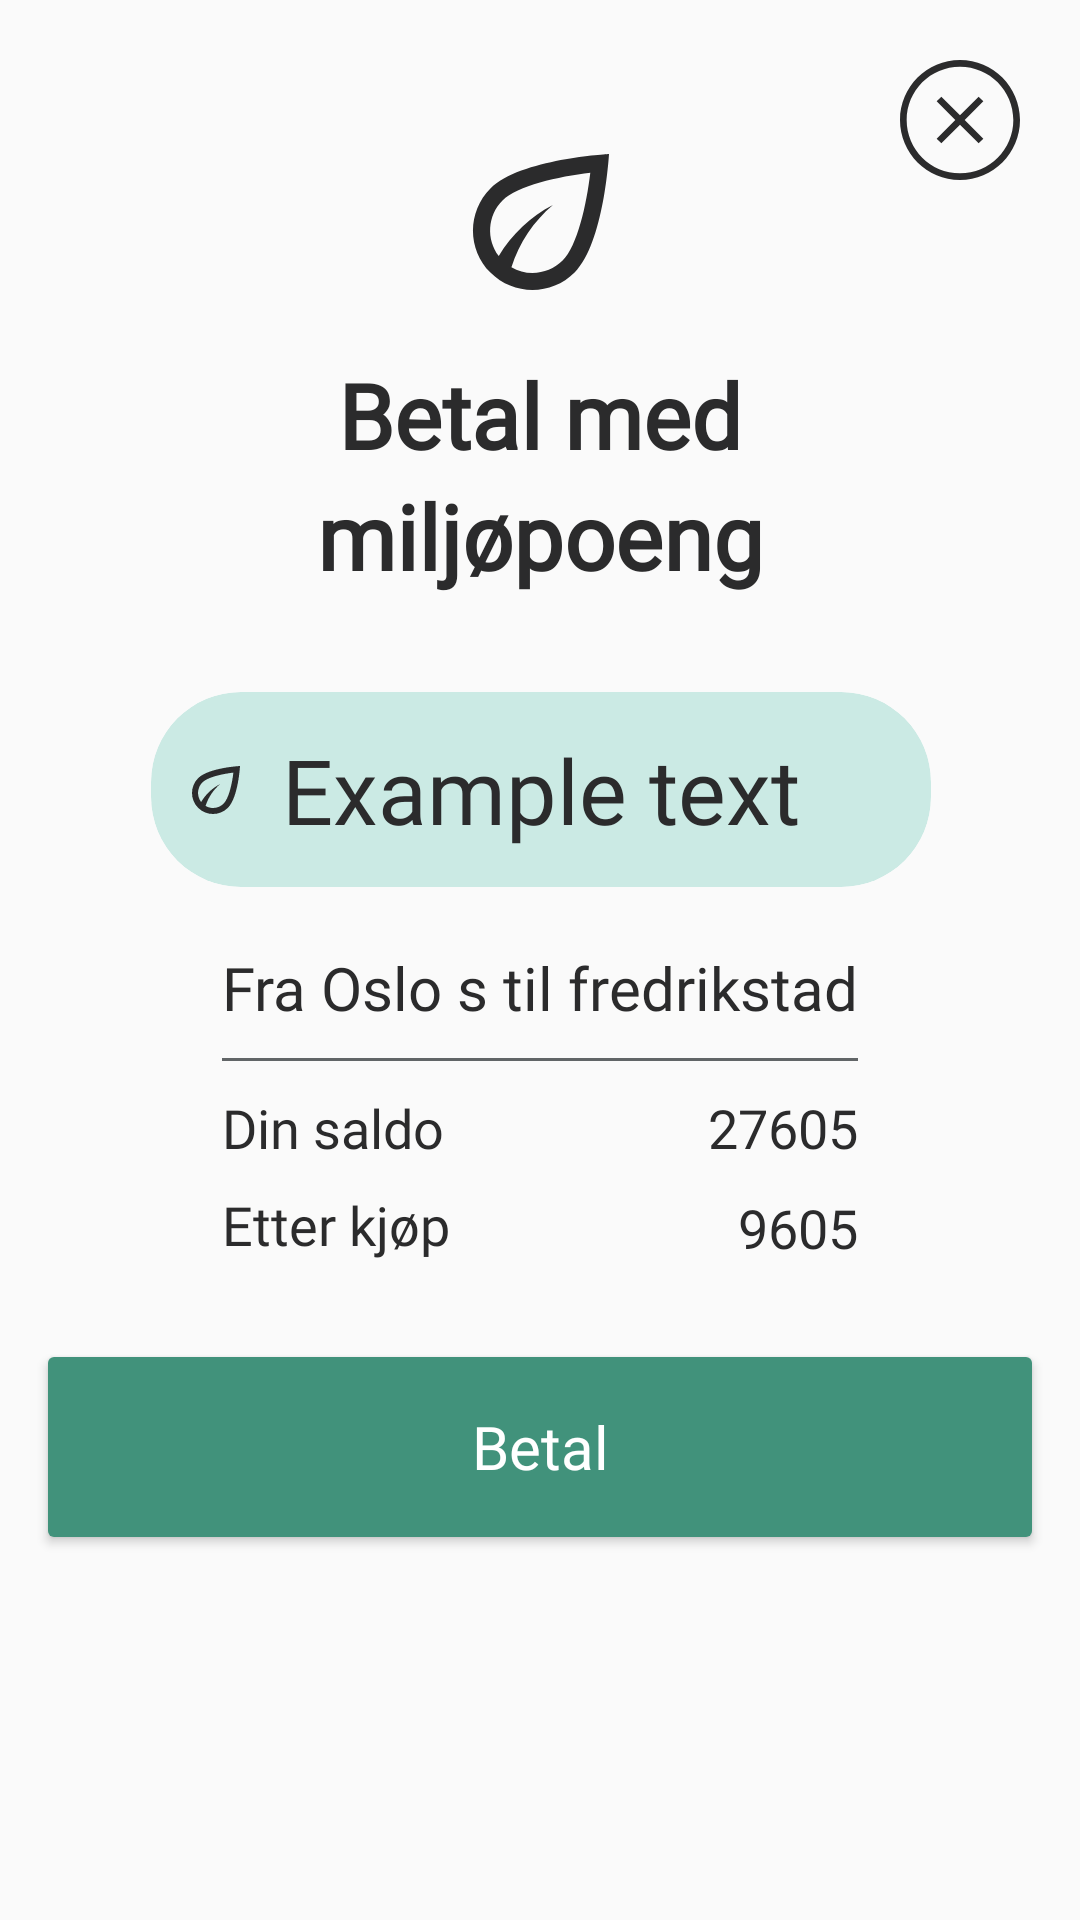

Locate icon controls on the screen. Image size 1080 x 1920, boxes as (left=x1, top=y1, right=x2, bottom=y2).
close: (left=900, top=60, right=1020, bottom=180)
leafe image: (left=473, top=154, right=609, bottom=290)
